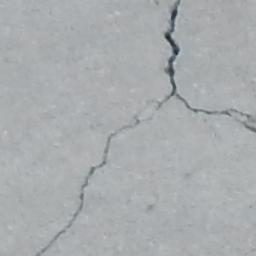Structural-Crack: (32, 1, 256, 256)
